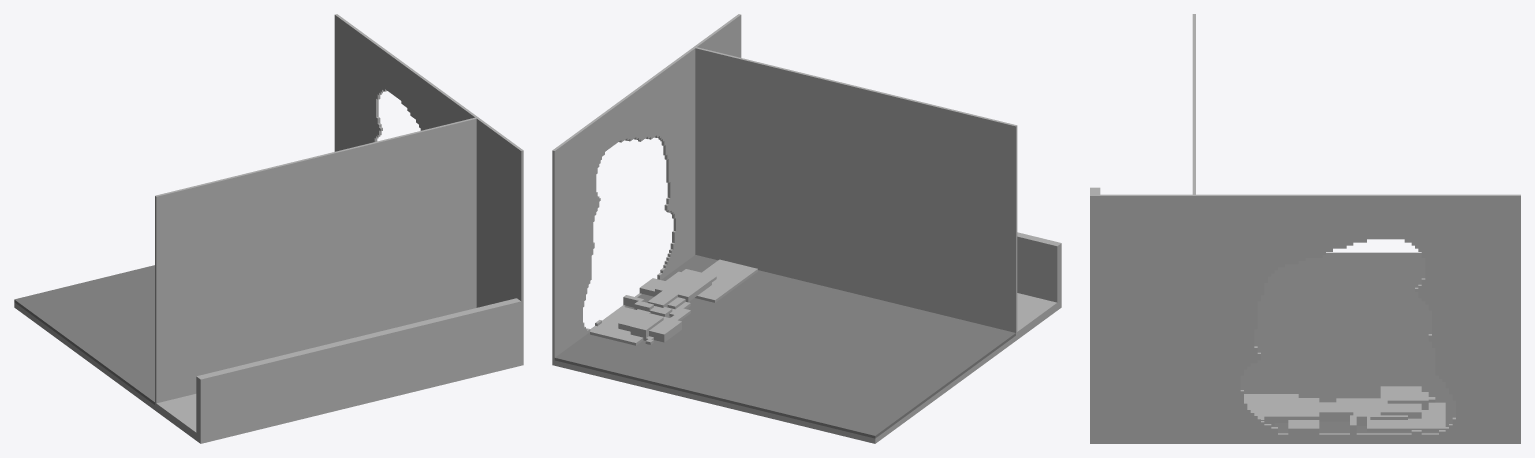
Rendered from 4x2 second (1)-6.obj.
3 renders of one model, left to right at view 1: azimuth 30°, elevation 25°; view 2: azimuth 150°, elevation 25°; view 3: azimuth 270°, elevation 25°, orthographic. The views are drawn at different scales.
Visible parts, largest first — view 1: 4x2 second (1)-6; view 2: 4x2 second (1)-6; view 3: 4x2 second (1)-6.
Part boxes in pixels (<box>): 4x2 second (1)-6: <box>14,14,523,443</box>; 4x2 second (1)-6: <box>552,14,1061,443</box>; 4x2 second (1)-6: <box>1090,14,1520,443</box>.
Size of the model in its own units: 126 by 80 by 126.
Materials: 1 (1 with a texture image).
